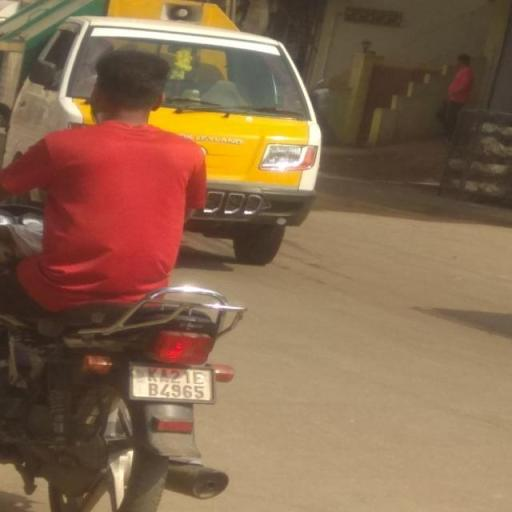bike: (4, 46, 262, 512)
numberplate: (131, 366, 214, 403)
withouthelmet: (95, 51, 168, 116)
